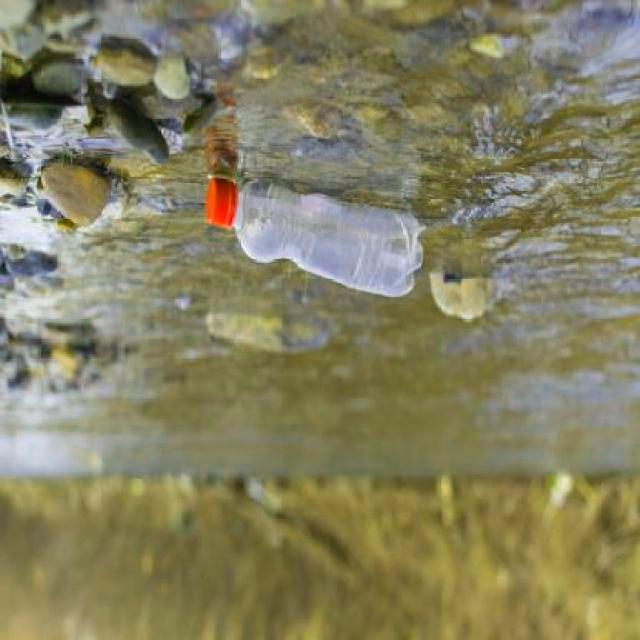Plastic: (199, 183, 430, 300)
